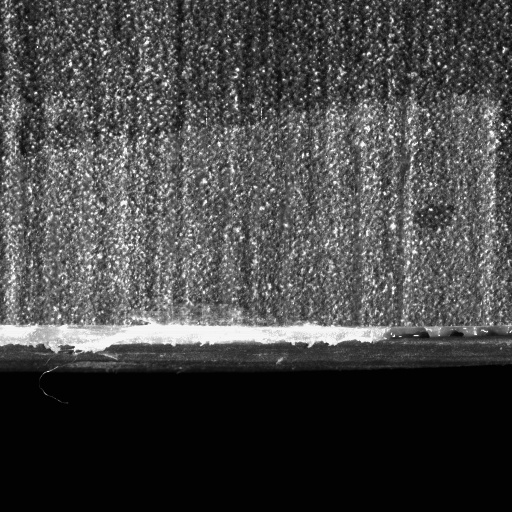kaijiao: (0, 320, 511, 376)
